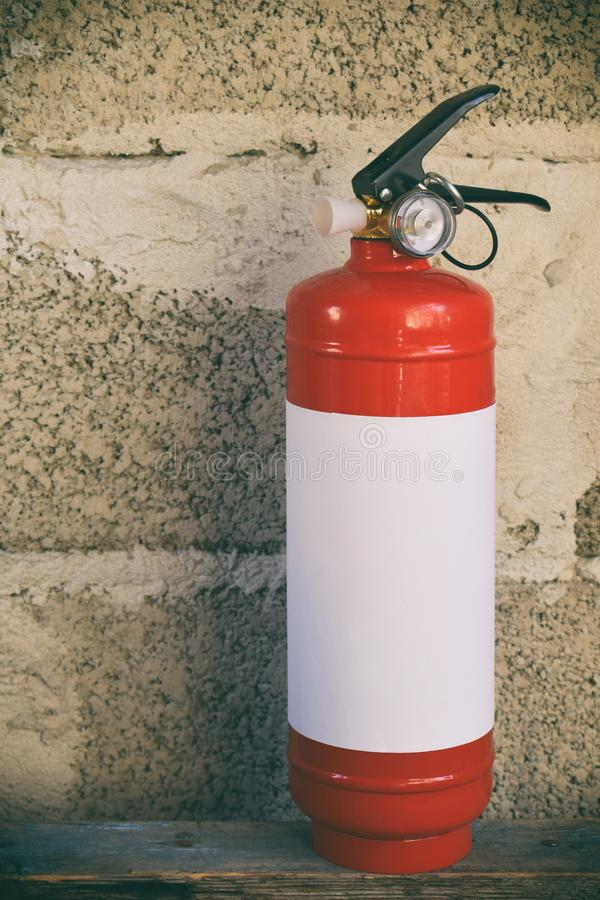fire_extinguisher: (283, 83, 551, 874)
